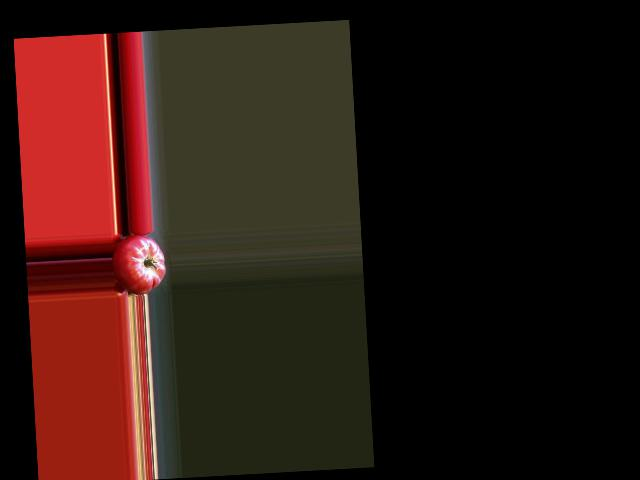tomato: (110, 233, 166, 296)
